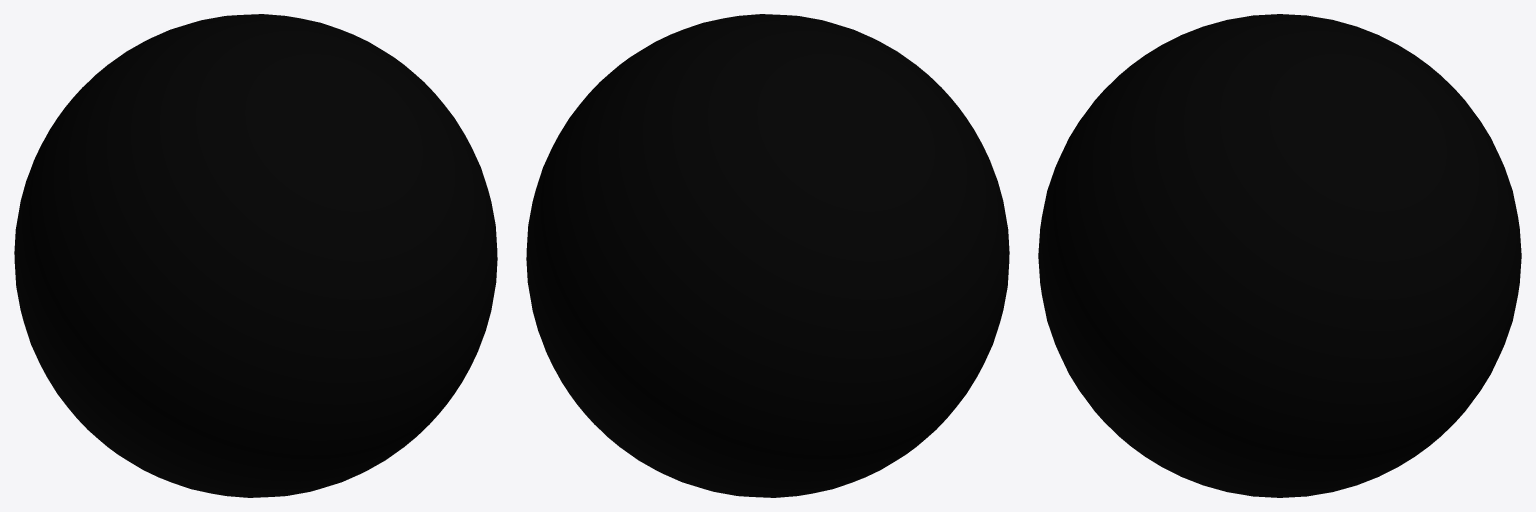
Rendered from spheretest.glb.
The picture shows the model from 3 angles, left to right: view 1: azimuth 30°, elevation 25°; view 2: azimuth 150°, elevation 25°; view 3: azimuth 270°, elevation 25°; orthographic projection.
Visible parts, largest first — view 1: mesh_id27; view 2: mesh_id27; view 3: mesh_id27.
Part boxes in pixels (x1,y1,x2,y2): mesh_id27: [14, 14, 497, 497]; mesh_id27: [526, 14, 1009, 497]; mesh_id27: [1038, 14, 1521, 497].
Bounding box in the file's own units: 0.491 × 0.492 × 0.491.
Materials: 1 (1 with a texture image).
